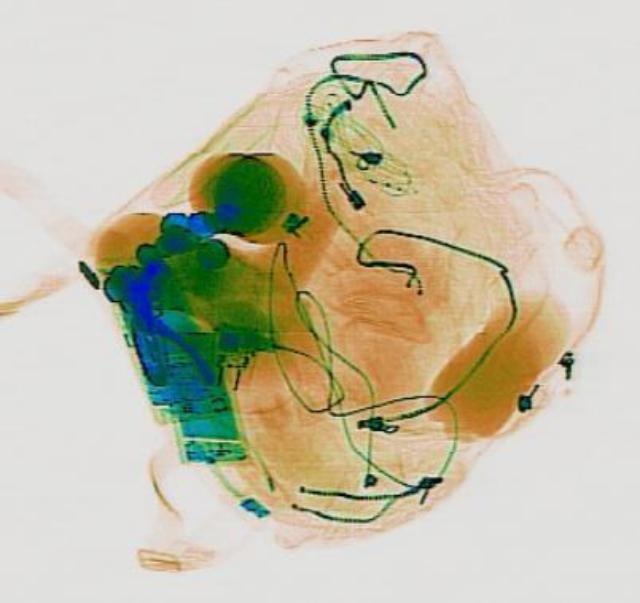Pliers: (99, 263, 215, 398)
